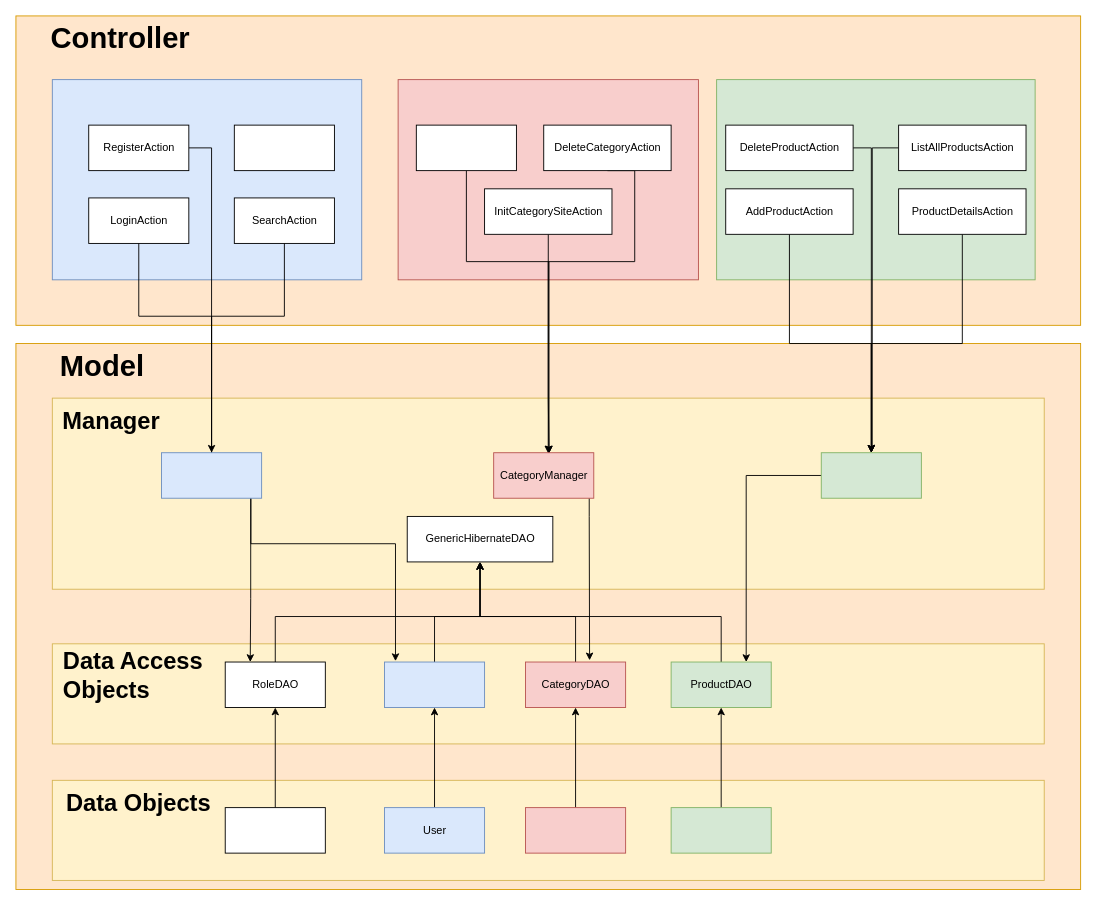
This 1097x905 diagram has some shape labels left out. Each missing label, with the centre of its shape:
AddCategoryAction: the point at 465,147
Category: the point at 575,830
LogoutAction: the point at 283,147
Product: the point at 720,830
ProductManager: the point at 870,475
Role: the point at 274,830
UserDAO: the point at 434,684
UserManager: the point at 211,475
